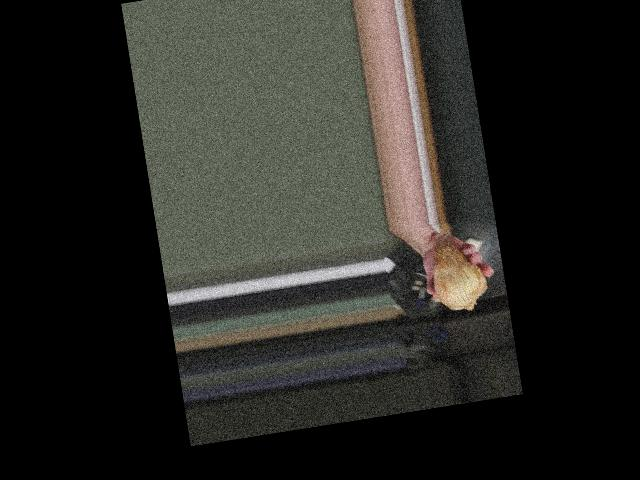onion: (427, 243, 489, 314)
